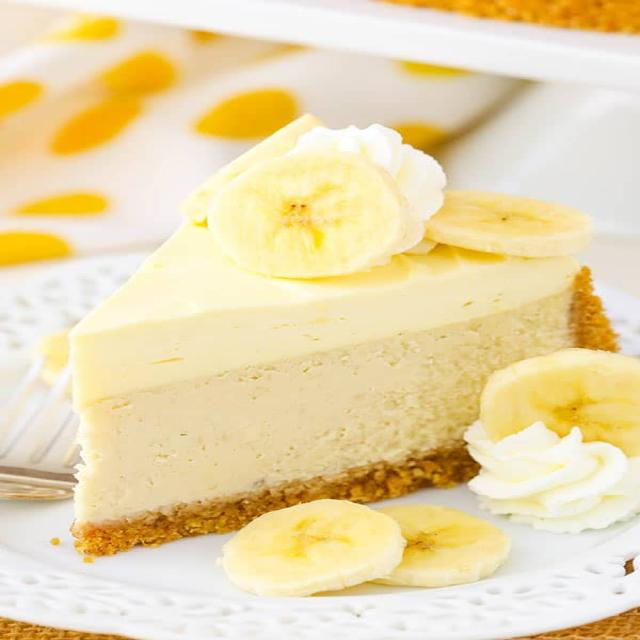Wet Waste: (49, 122, 616, 592)
